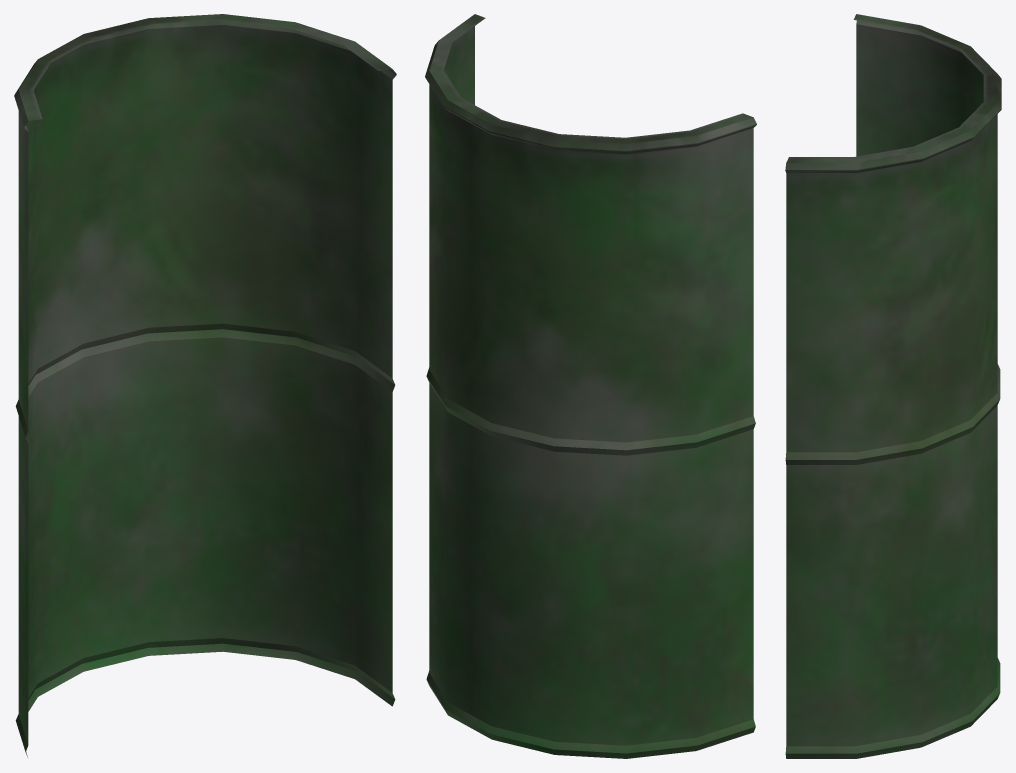
The model's file is Barrel.fbx.
3 renders of one model, left to right at view 1: azimuth 30°, elevation 25°; view 2: azimuth 150°, elevation 25°; view 3: azimuth 270°, elevation 25°, orthographic. The views are drawn at different scales.
Parts seen in each view (by area): view 1: Debris Barrel1; view 2: Debris Barrel1; view 3: Debris Barrel1.
Part boxes in pixels (left/top/right/bottom): Debris Barrel1: left=14, top=14, right=396, bottom=757; Debris Barrel1: left=425, top=14, right=756, bottom=758; Debris Barrel1: left=785, top=14, right=1001, bottom=758.
Bounding box in the file's own units: 93.58 × 171 × 56.1.
Materials: 1 (1 with a texture image).
